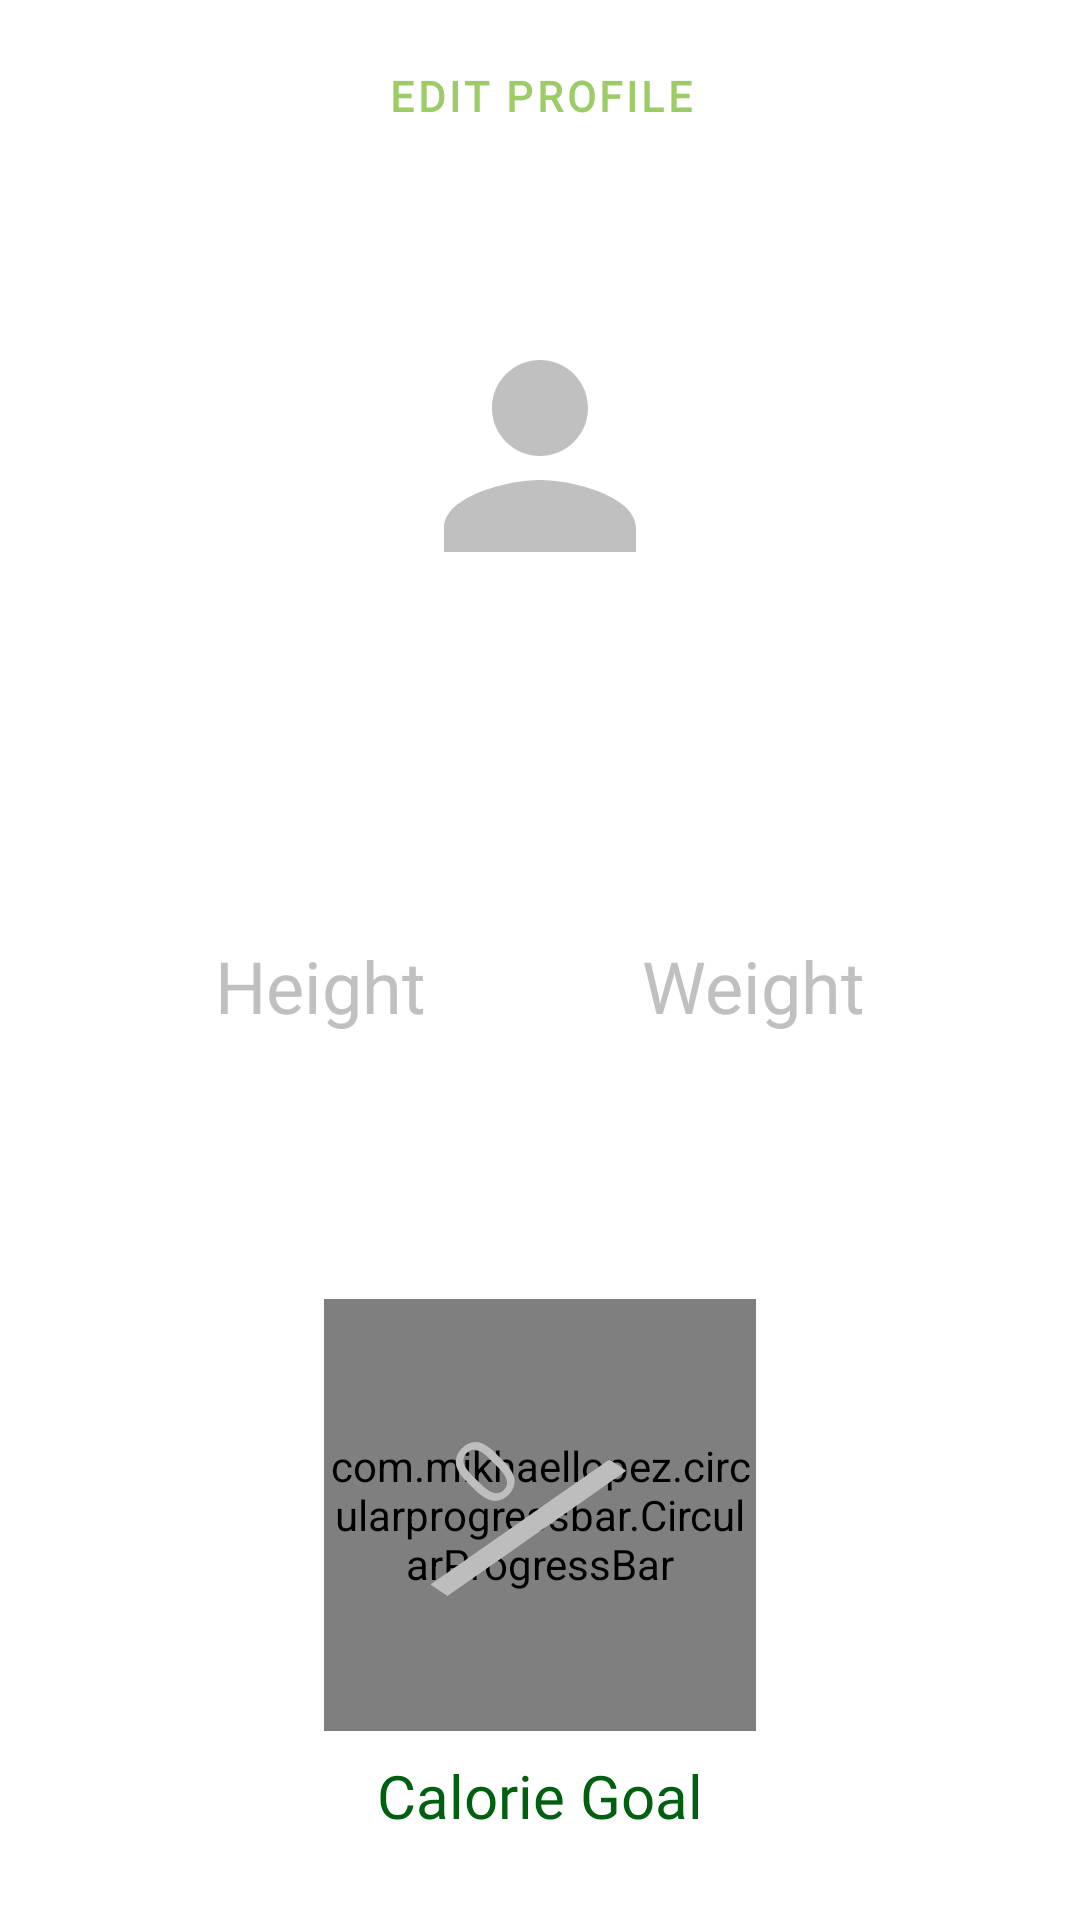

Icon click points for this 1080 x 1920 phone screenshot, format (x=x, y=y):
person: (x=540, y=456)
